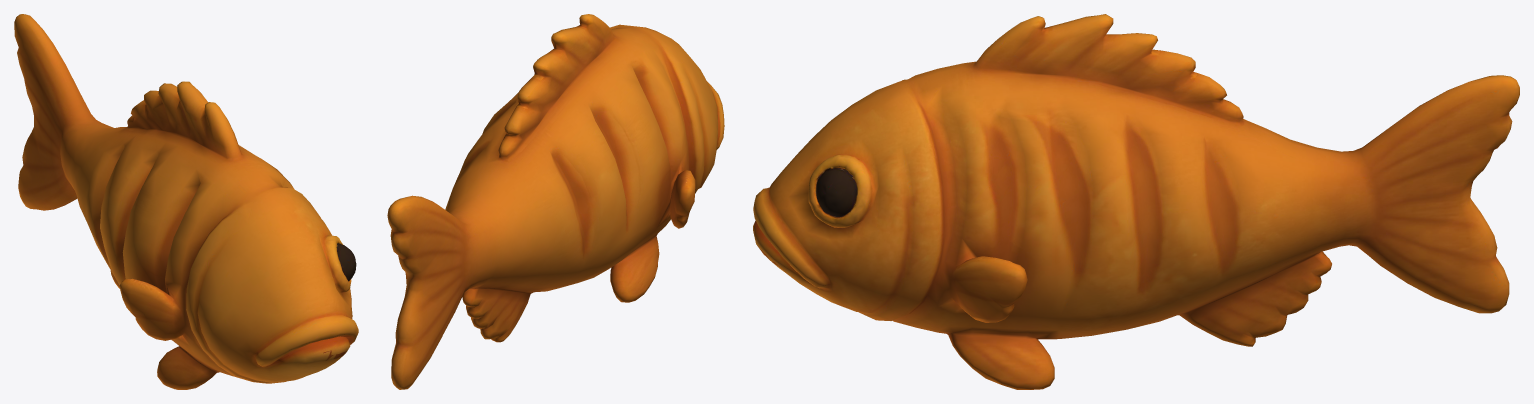
The model's file is PescadoFrito.fbx.
3 renders of one model, left to right at view 1: azimuth 30°, elevation 25°; view 2: azimuth 150°, elevation 25°; view 3: azimuth 270°, elevation 25°, orthographic. The views are drawn at different scales.
Parts seen in each view (by area): view 1: PescadoFrito; view 2: PescadoFrito; view 3: PescadoFrito.
Part boxes in pixels (x1,y1,x2,y2): PescadoFrito: (14,14,358,389); PescadoFrito: (387,14,724,389); PescadoFrito: (753,14,1519,389).
Size of the model in its own units: 0.3809 by 0.4902 by 0.998.
